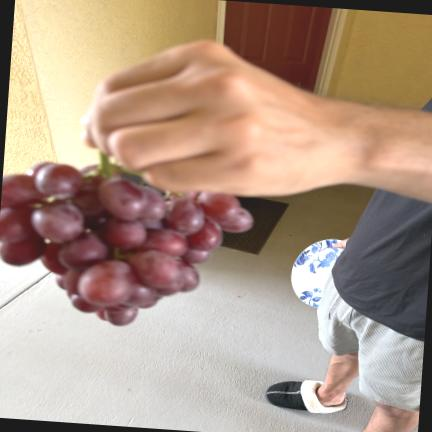grape_cluster: (0, 152, 253, 325)
